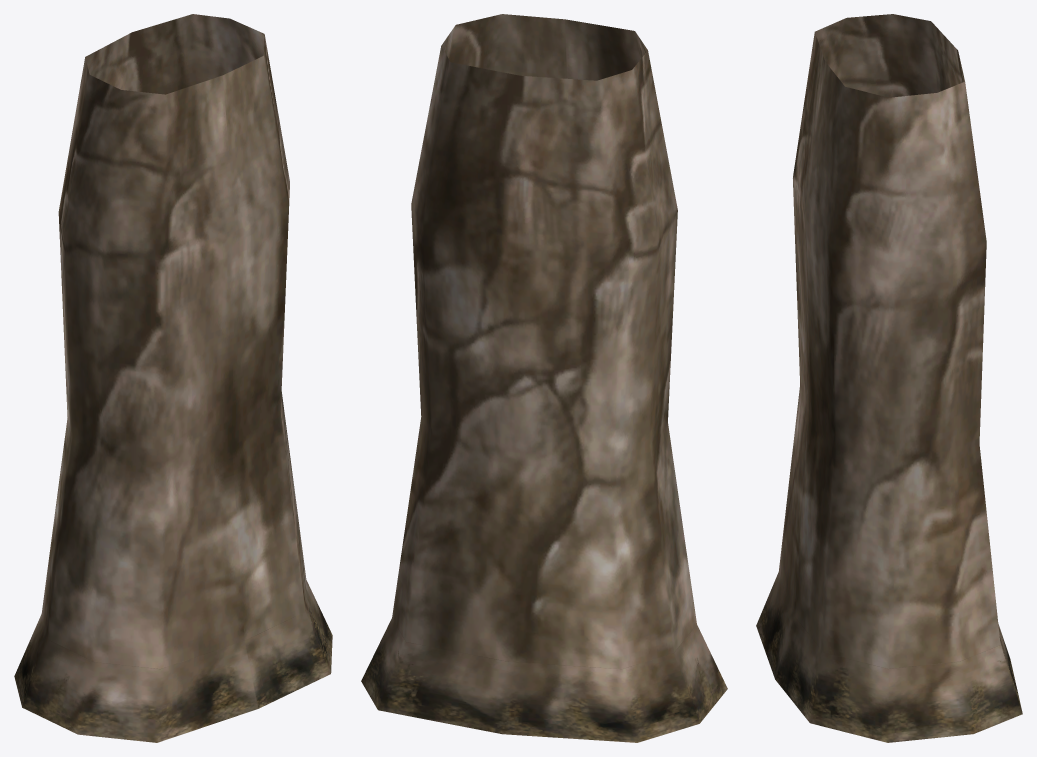
File: OVERHILL_A_01_LINE157.fbx
3 renders of one model, left to right at view 1: azimuth 30°, elevation 25°; view 2: azimuth 150°, elevation 25°; view 3: azimuth 270°, elevation 25°, orthographic. The views are drawn at different scales.
Parts seen in each view (by area): view 1: OVERHILL_A_01_LINE157; view 2: OVERHILL_A_01_LINE157; view 3: OVERHILL_A_01_LINE157.
Part boxes in pixels (box(x1,y1,x2,y2)): OVERHILL_A_01_LINE157: box(14, 14, 332, 742); OVERHILL_A_01_LINE157: box(361, 14, 727, 742); OVERHILL_A_01_LINE157: box(756, 14, 1022, 742).
Bounding box in the file's own units: 31792 × 61100 × 24113.
Materials: 2 (2 with a texture image).
